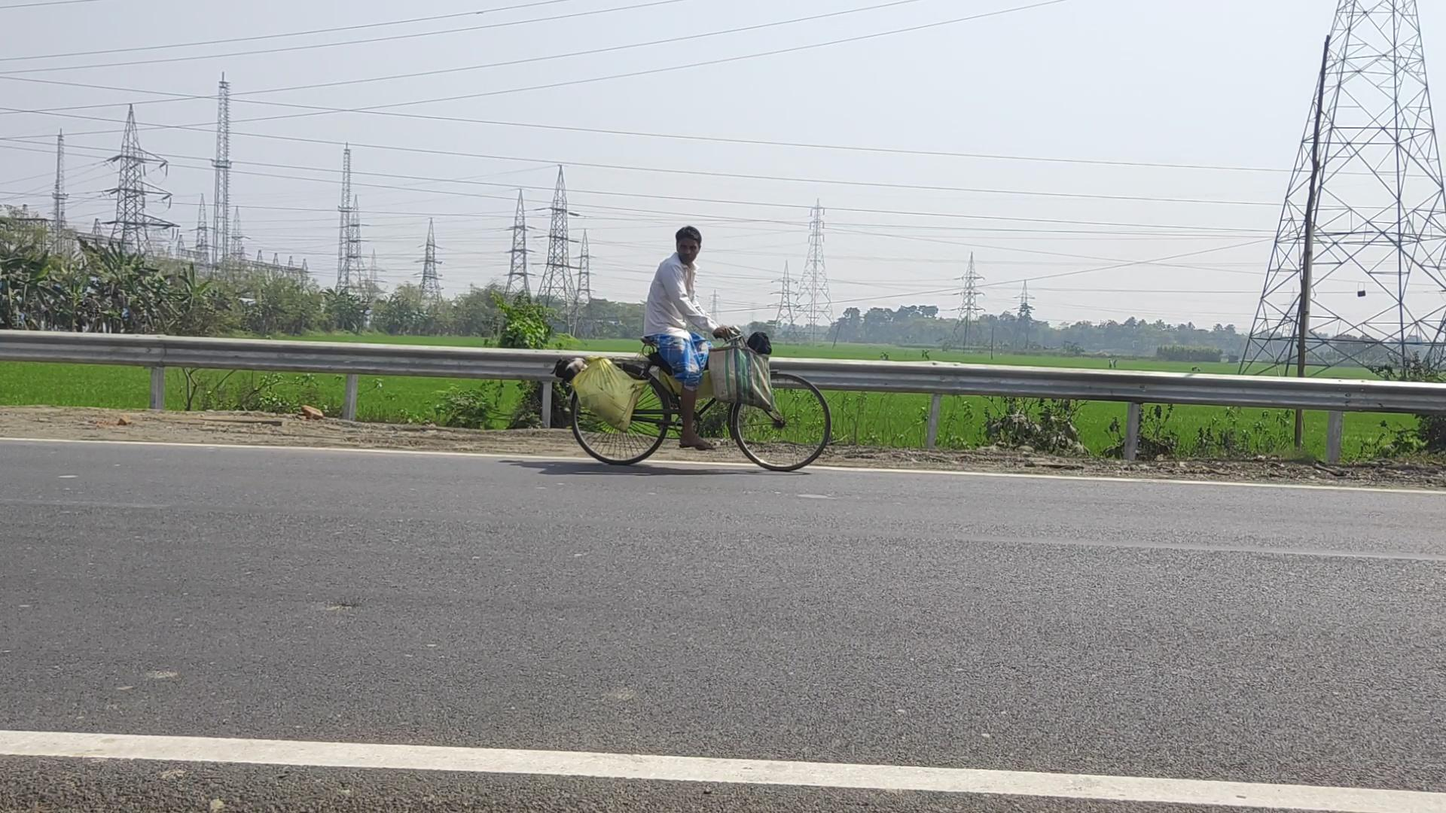bike: (554, 225, 831, 472)
